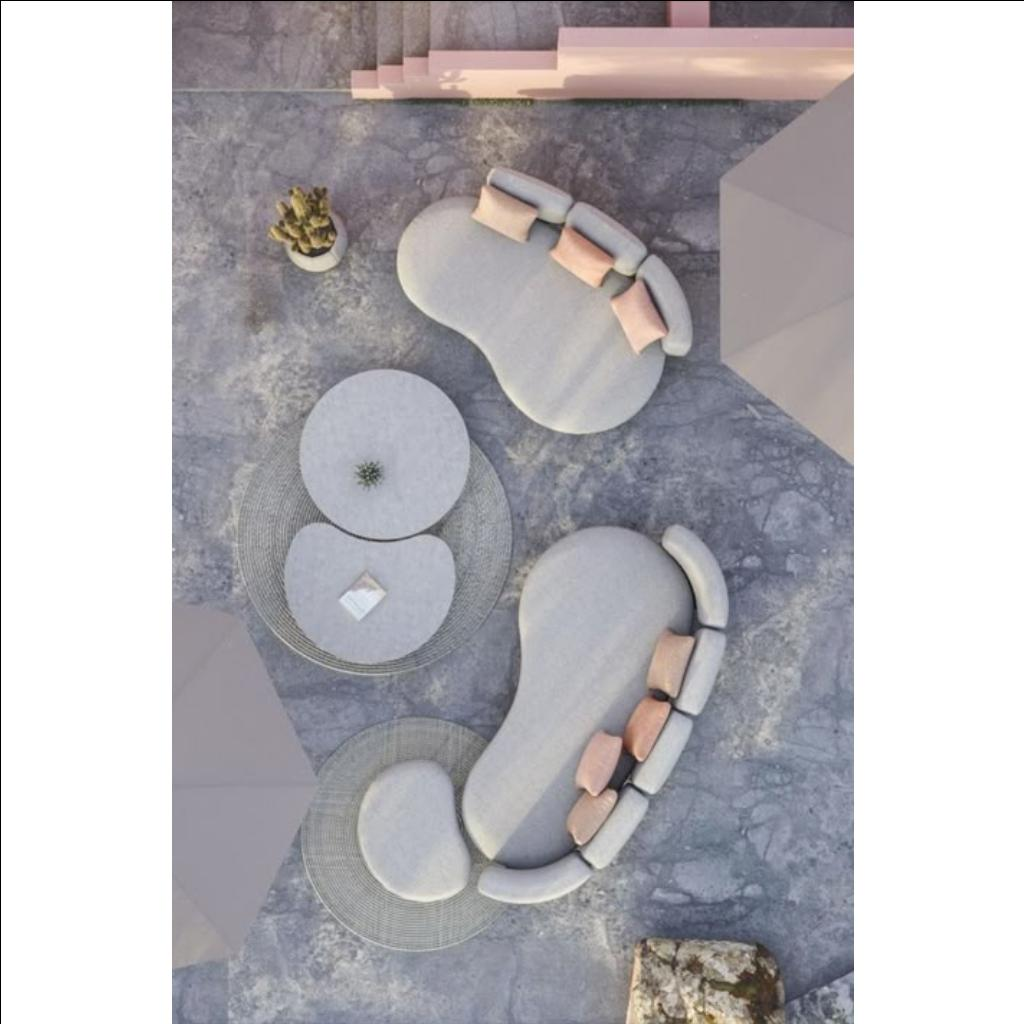coffee table: (298, 369, 466, 525), (282, 530, 462, 668)
floor plant: (280, 204, 348, 268)
ottoman: (623, 928, 787, 1024), (355, 756, 461, 902)
rug: (234, 408, 510, 678), (304, 718, 494, 954)
sofa: (478, 510, 730, 896), (397, 164, 693, 360)
